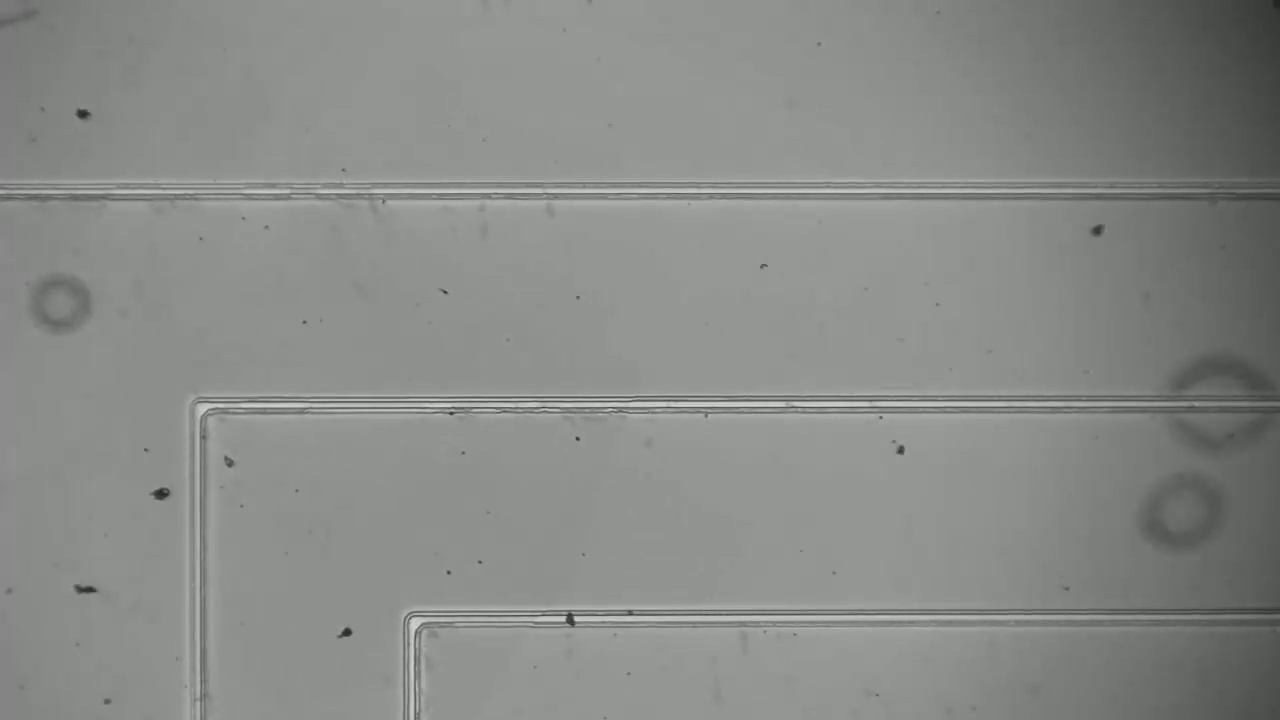stains_enbedded: (559, 603, 586, 635)
